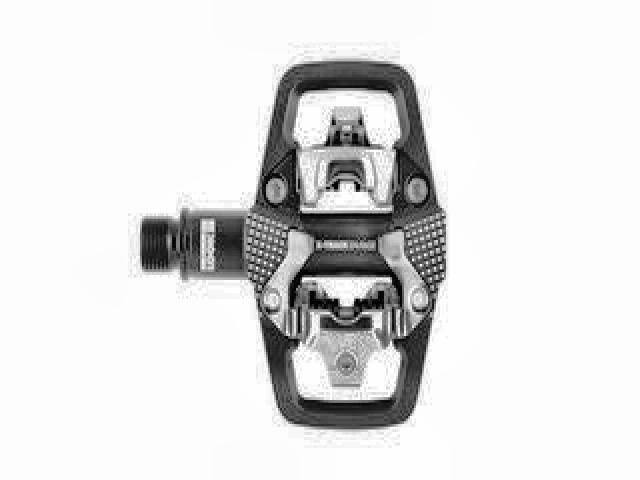pedal: (140, 59, 450, 433)
